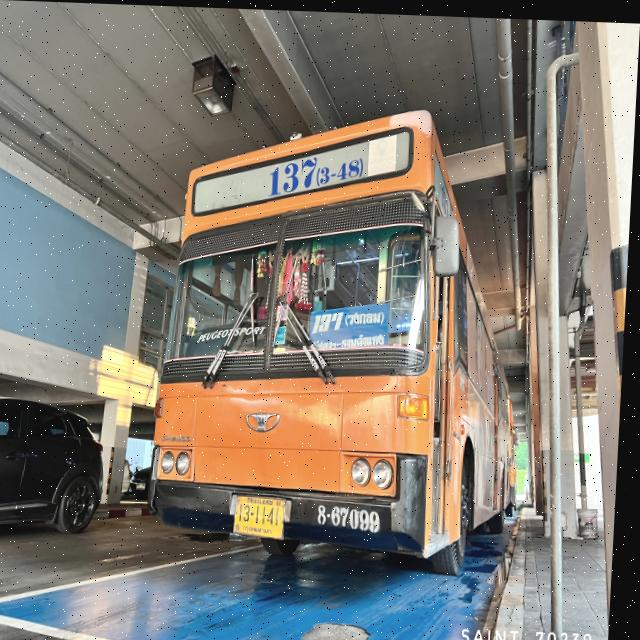BMTA-bus: (150, 90, 539, 579)
Bus-Line-Number: (264, 134, 371, 200)
Destination-Sign-Normal: (312, 296, 394, 351)
